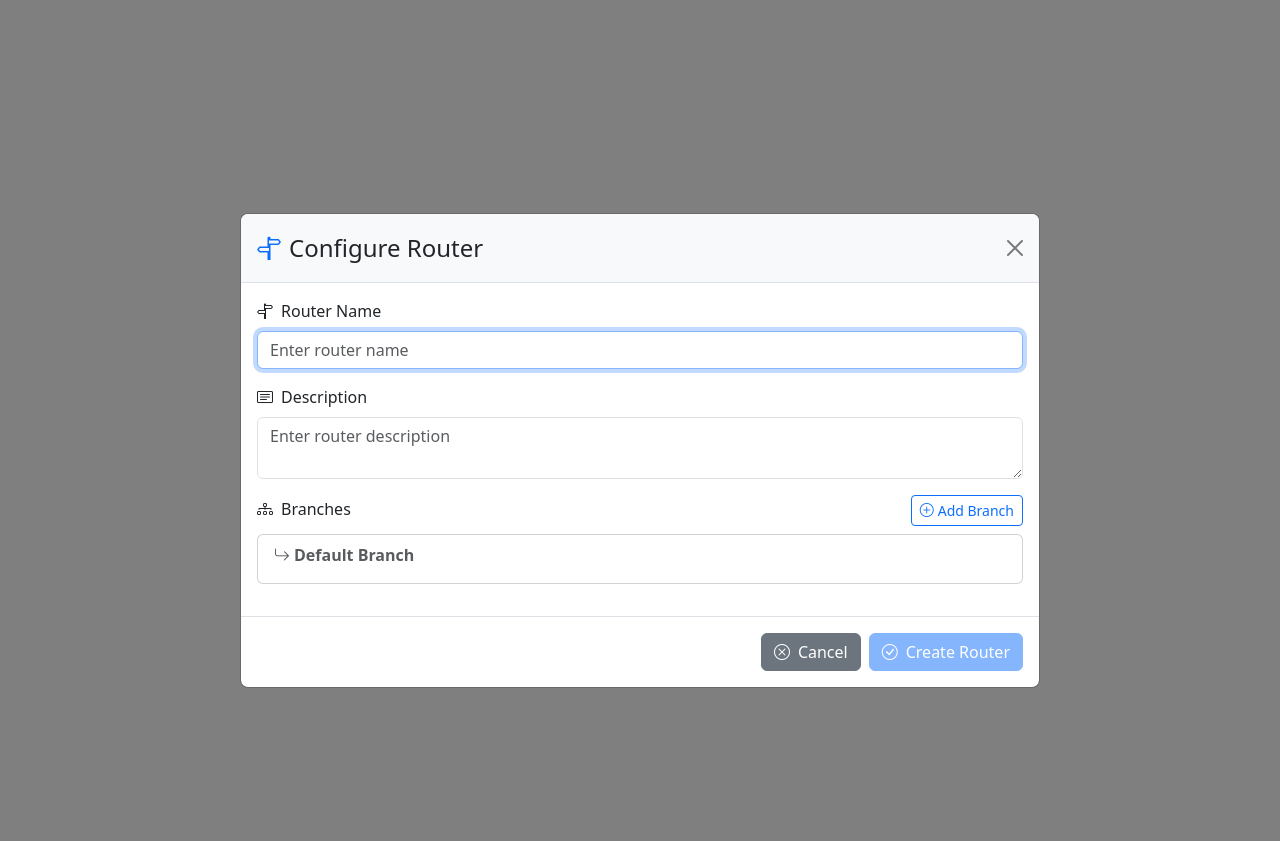
Test: RouterConfigModal › shows branch priority numbers
The width and height of the screenshot is (1280, 841).
Click the button "Add Branch" at (967, 510), box [911,494,1023,526]
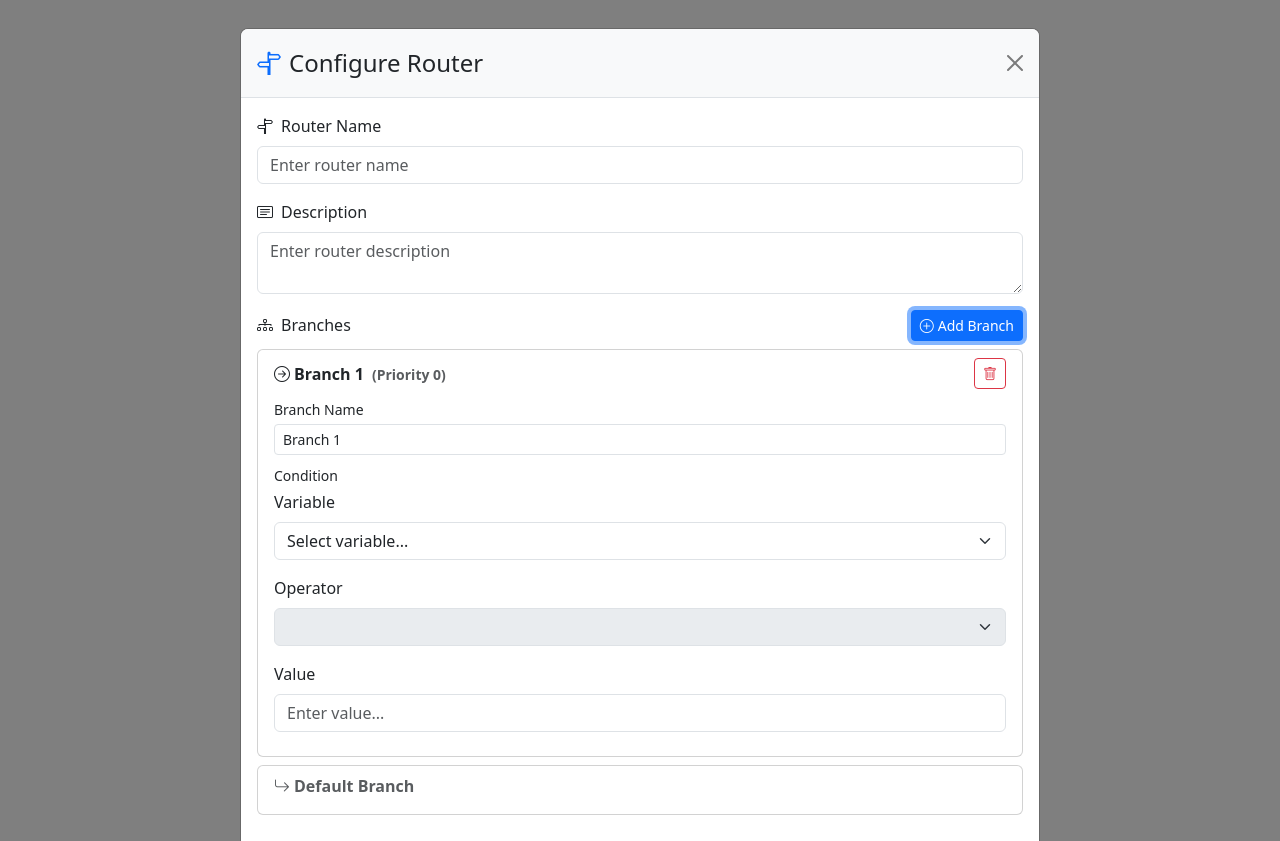
Click the button "Add Branch" at (967, 326), box [911,310,1023,341]
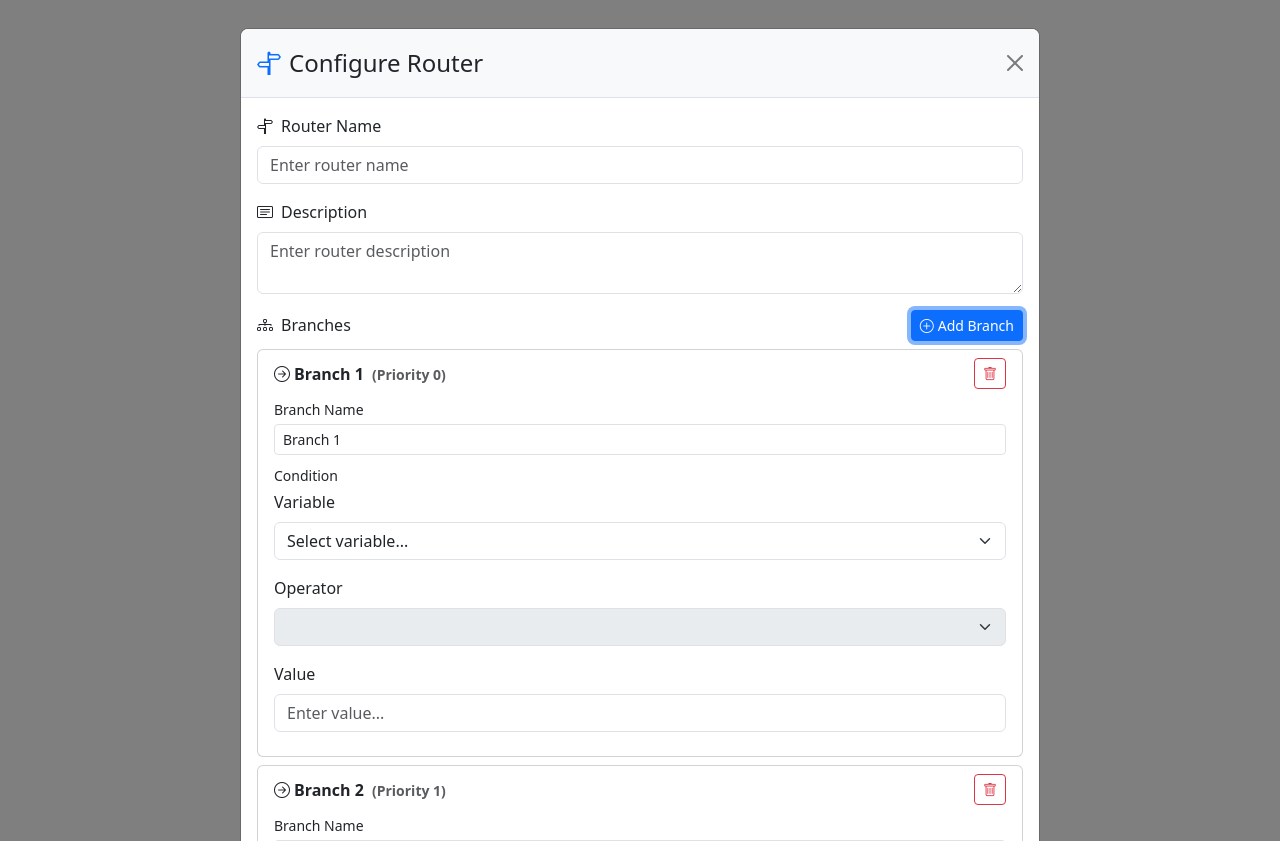
Check: the text "(Priority 0)" is shown, box [372,364,446,384]
Check: the text "(Priority 1)" is shown, box [372,780,446,800]
